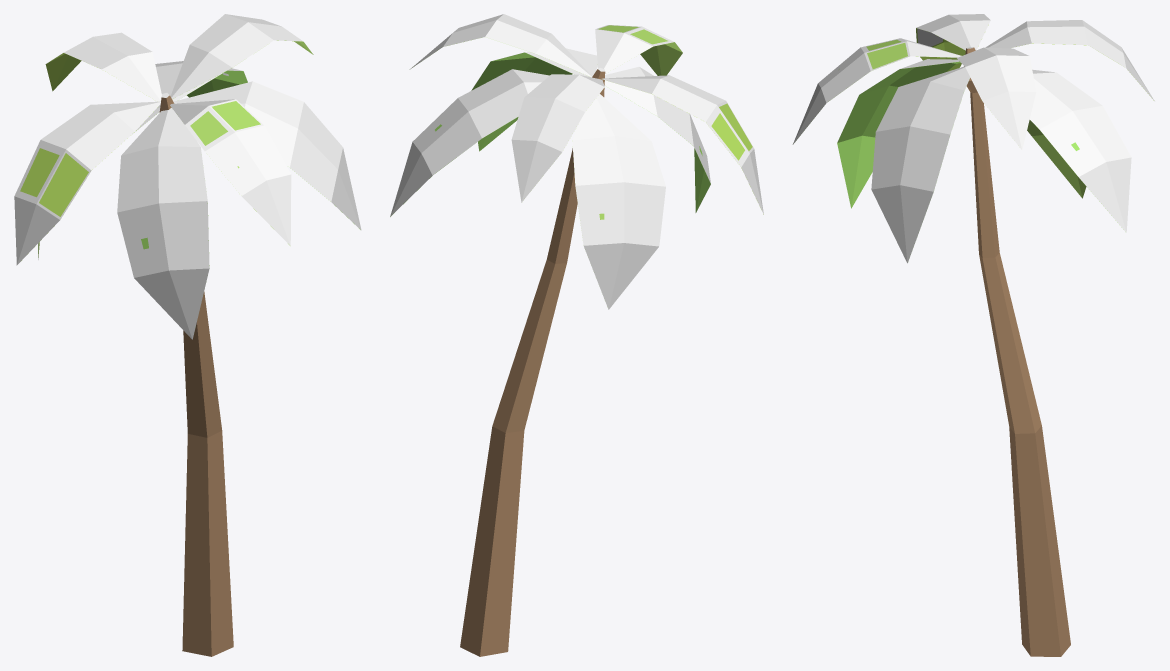
Rendered from Palm_Tree_m_Snow_BT_06.fbx.
The picture shows the model from 3 angles, left to right: view 1: azimuth 30°, elevation 25°; view 2: azimuth 150°, elevation 25°; view 3: azimuth 270°, elevation 25°; orthographic projection. The views are drawn at different scales.
Parts seen in each view (by area): view 1: Palm_Tree_m_Snow_BT_06; view 2: Palm_Tree_m_Snow_BT_06; view 3: Palm_Tree_m_Snow_BT_06.
Boxes of the visible parts, x1,y1,x2,y2 form: Palm_Tree_m_Snow_BT_06: (14, 14, 361, 656); Palm_Tree_m_Snow_BT_06: (390, 14, 763, 656); Palm_Tree_m_Snow_BT_06: (792, 14, 1154, 656).
Bounding box in the file's own units: 290 × 526 × 289.
